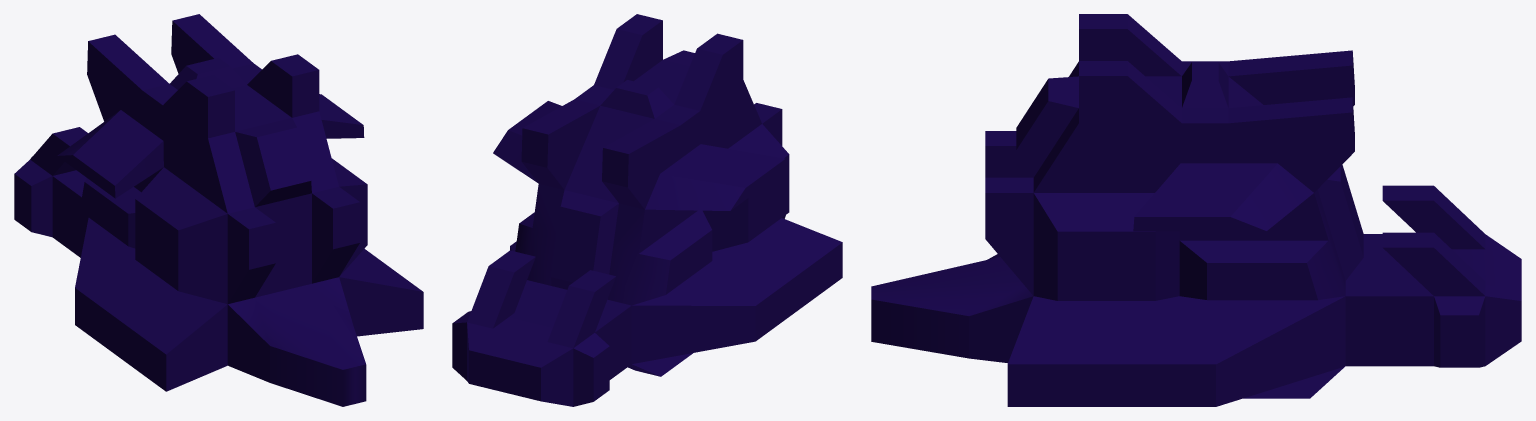
The model's file is Tanisimaru.fbx.
The picture shows the model from 3 angles, left to right: view 1: azimuth 30°, elevation 25°; view 2: azimuth 150°, elevation 25°; view 3: azimuth 270°, elevation 25°; orthographic projection. The views are drawn at different scales.
Parts seen in each view (by area): view 1: pCube1; view 2: pCube1; view 3: pCube1.
Part boxes in pixels (x1=…): pCube1: x1=14, y1=14, x2=423, y2=406; pCube1: x1=452, y1=14, x2=842, y2=406; pCube1: x1=871, y1=14, x2=1521, y2=406.
Bounding box in the file's own units: 1.53 × 1.57 × 2.94.
